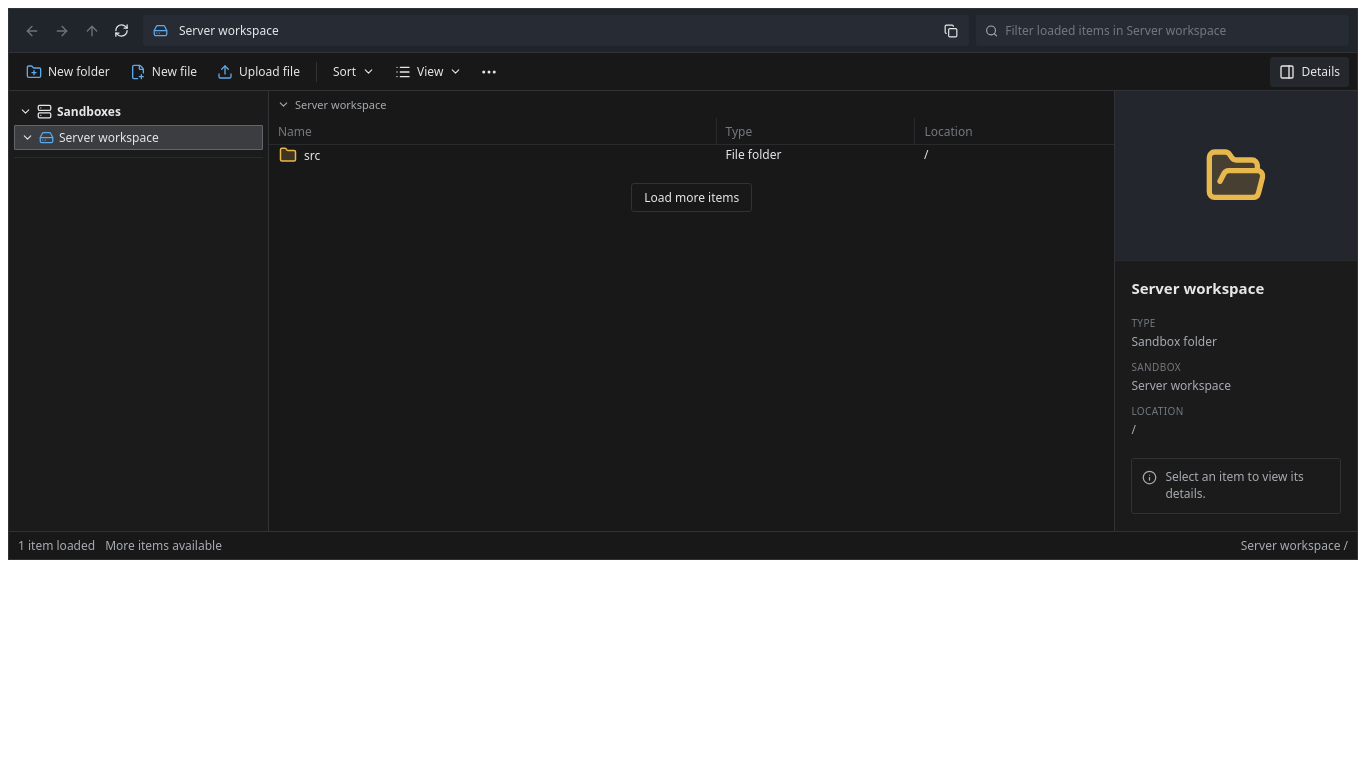
SandboxExplorerView › exposes working keyboard shortcuts and a functional more-options menu
Expected: the button "src File folder /" is shown, x1=269 y1=145 x2=1114 y2=175
Press f in the element named "Sandbox file explorer"
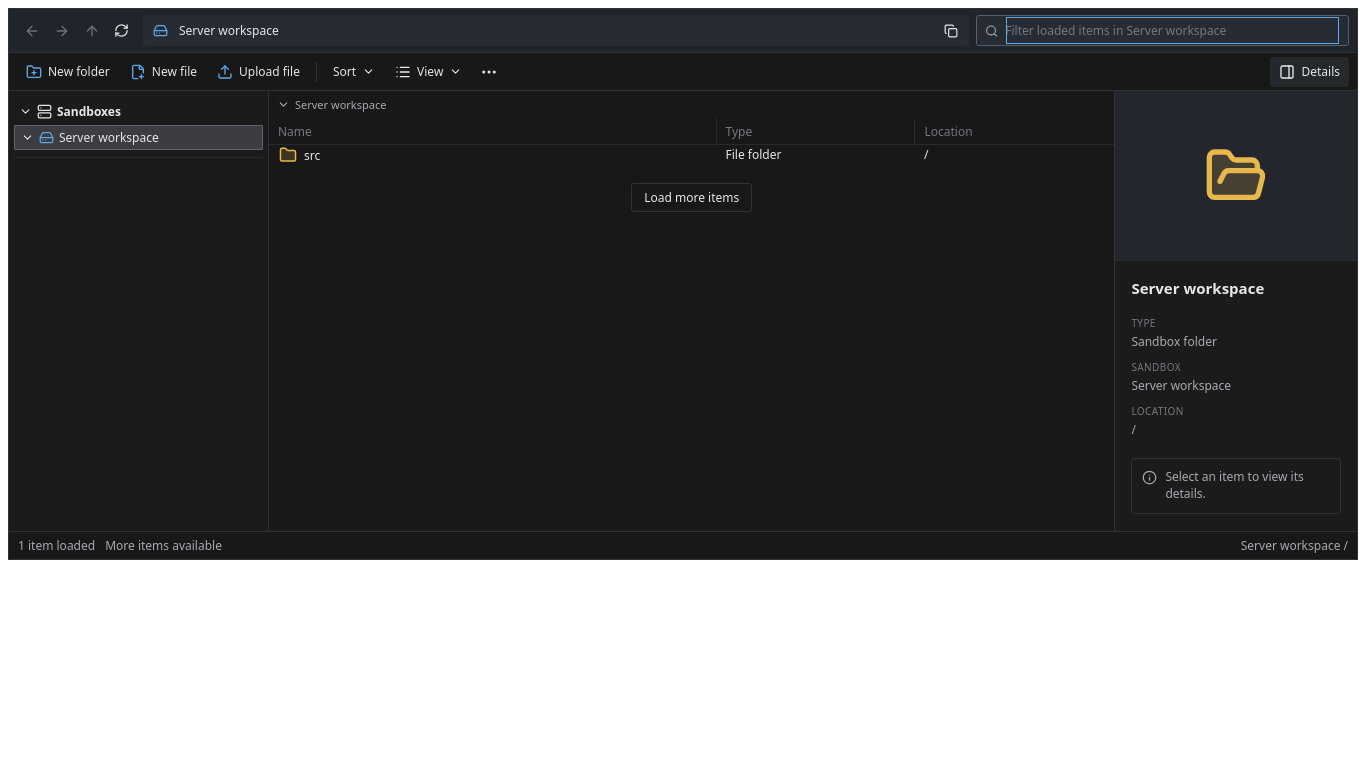
Click the button named "More options": (489, 72) x1=473 y1=56 x2=505 y2=86
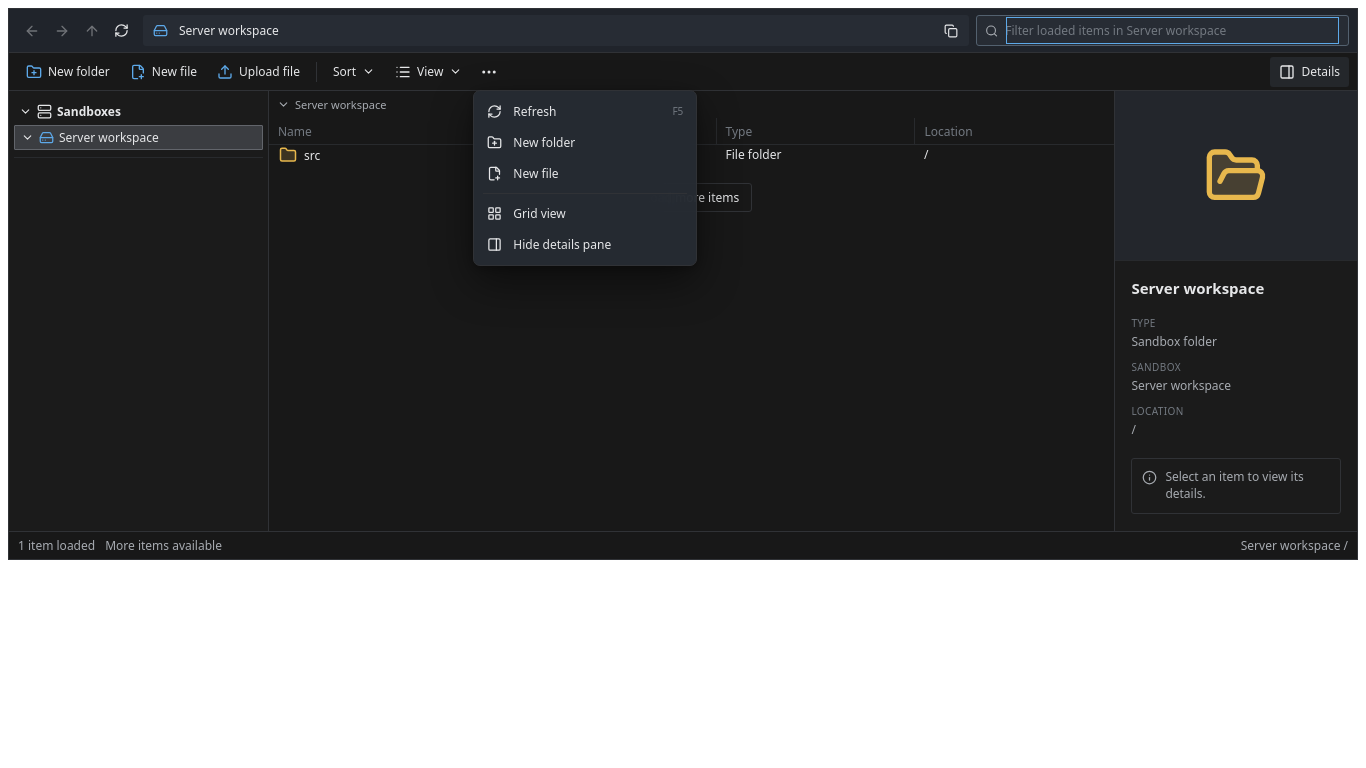
Expected: the menu item "Refresh F5" is shown, x1=479 y1=96 x2=691 y2=126
Click the menu item "New folder": (585, 142) x1=479 y1=126 x2=691 y2=158
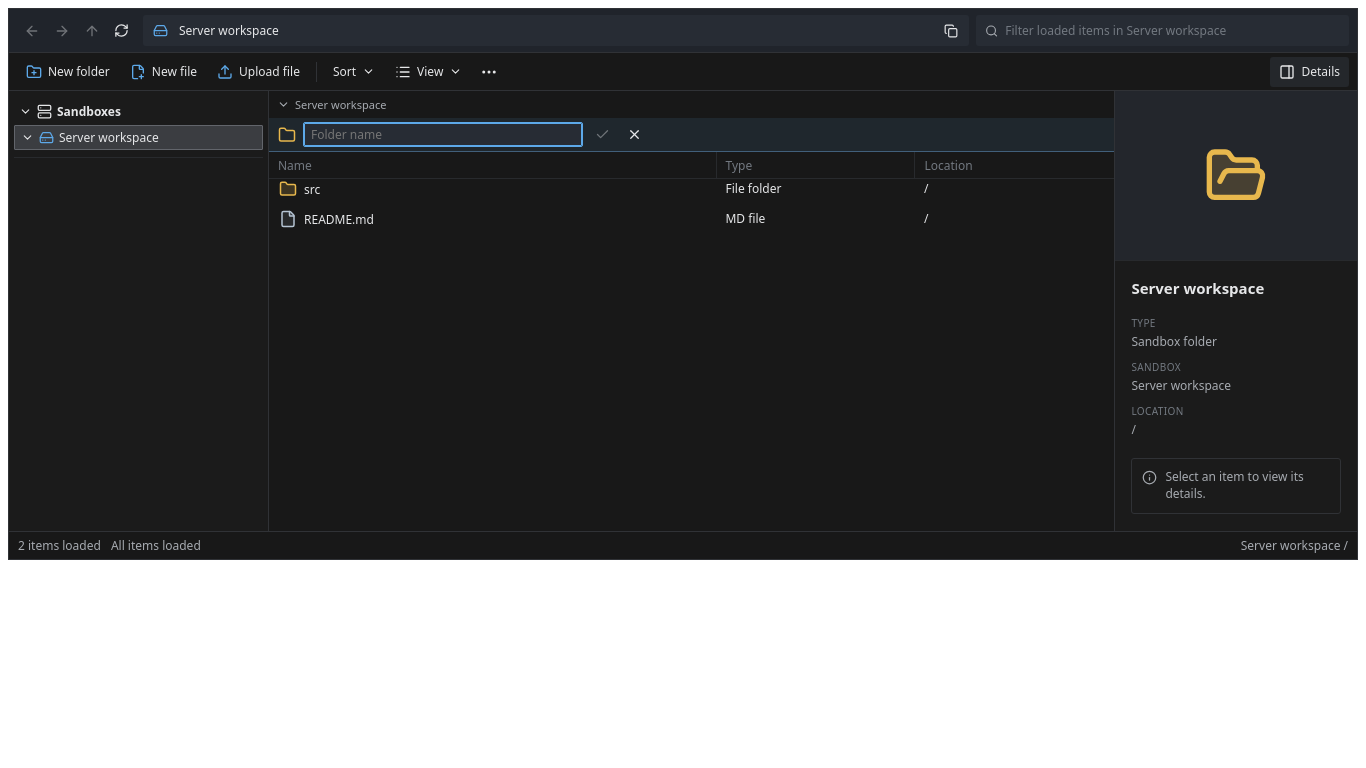
Expected: the field labelled "Folder name" is shown, x1=303 y1=122 x2=583 y2=147
